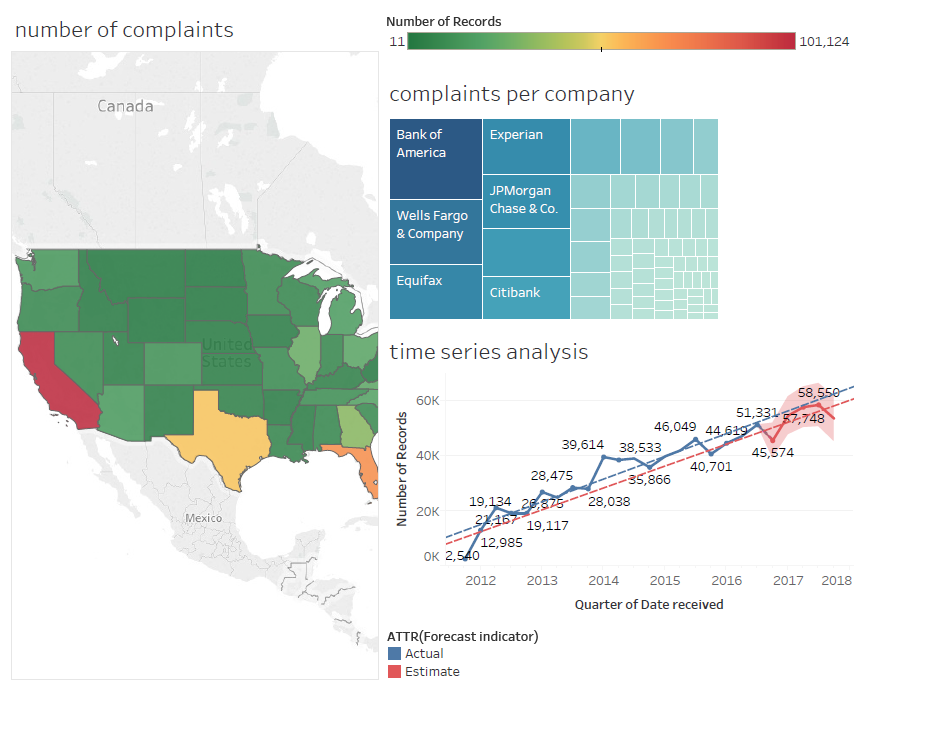

This screenshot's page, from the dashboard's own definition file:
{"tool":"tableau","page":{"name":"Dashboard 1","canvas":[1000,800],"ordinal":0},"visuals":[{"type":"worksheet","title":"number of complaints","mark":"Automatic","box":[0,0,442,800]},{"type":"legend","title":"number of complaints","param":"[federated.1lylk851fwwymd1228aef0uzjdl5].[sum:Number of Records:qk]","box":[442,0,558,77]},{"type":"worksheet","title":"complaints per company","mark":"Automatic","box":[442,77,558,302]},{"type":"worksheet","title":"time series analysis","mark":"Automatic","rows":["Number of Records"],"cols":["Date received"],"box":[442,379,558,345]},{"type":"legend","title":"time series analysis","param":"[federated.1lylk851fwwymd1228aef0uzjdl5].[attr:Forecast Indicator:nk]","box":[442,724,558,72]}]}

Visuals, with their boxes in screenshot pixels (x1, y1, x2, y2), scaled from the page's 1000x800 canvas onto the 952x746 screenshot:
"number of complaints" worksheet: locate(0, 0, 421, 745)
"number of complaints" legend: locate(421, 0, 951, 72)
"complaints per company" worksheet: locate(421, 72, 951, 353)
"time series analysis" worksheet: locate(421, 353, 951, 675)
"time series analysis" legend: locate(421, 675, 951, 742)
